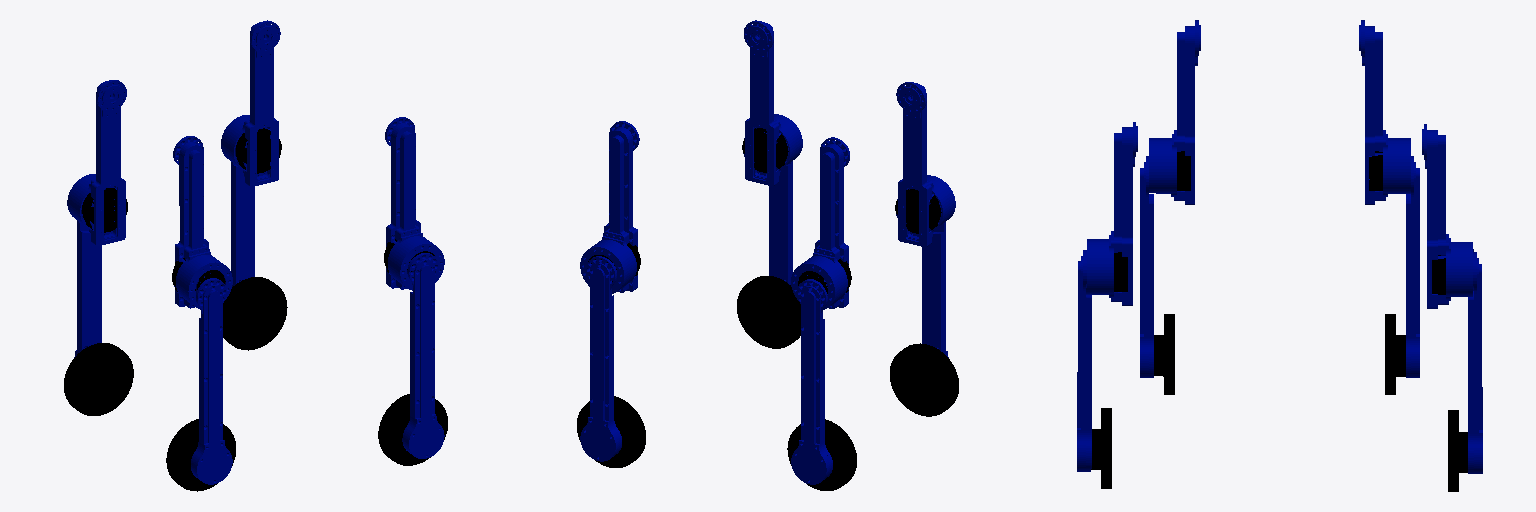
The robot description file, URDF, robot "monster":
<?xml version="1.0"?>
<robot name="monster">

    <material name="silver">
        <color rgba="0.700 0.700 0.700 1.000"/>
    </material>

    <material name="white">
        <color rgba="0.9 0.9 0.9 1"/>
    </material>

    <material name="black">
        <color rgba="0 0 0 1"/>
    </material>

    <material name="blue">
        <color rgba="0.1490 0.7019 0.9420 1"/>
    </material>

<!--  back base  -->
    <link name="base">
        <visual>
            <origin xyz="0.165 -0 -0" rpy="0 0 3.14"/>
            <geometry>
                <mesh filename="meshes/WeMO_Body.dae" scale="0.001 0.001 0.001"/>
            </geometry>
        </visual>
        <collision>
            <origin xyz="0.05 0 -0.024" rpy="0 0 0"/>
            <geometry>
                <box size="0.401 0.27 0.132"/>
<!--                <box size="0.541 0.27 0.15"/>-->
            </geometry>
        </collision>
        <inertial>
            <mass value="16.0"/>
            <origin xyz="0.0 0 -0.0"/>
            <inertia ixx="0.1845" iyy="0.4211" izz="0.5592"
                     ixy="0.0" ixz="0.0" iyz="0.0"/>
        </inertial>
    </link>
<!--  front base  -->
    <link name="base_second">
        <collision>
            <origin xyz="0.05 0 -0.024" rpy="0 0 0"/>
            <geometry>
                 <box size="0.152 0.515 0.132"/>
<!--                <box size="0.292 0.515 0.15"/>-->
            </geometry>
        </collision>
        <inertial>
            <mass value="1.0"/>
            <origin xyz="0 0 0"/>
            <inertia ixx="0.001" iyy="0.001" izz="0.001" ixy="0" ixz="0" iyz="0"/>
        </inertial>
    </link>

    <joint name="base" type="fixed">
        <parent link="base"/>
        <child link="base_second"/>
            <origin xyz="0.2765 0 0" rpy="0 0 0"/>
<!--        <origin xyz="0.4165 0 0" rpy="0 0 0"/>-->
    </joint>

    <!--    FL     -->
    <link name="hip_roll_motor_FL">
        <visual>
            <origin xyz="0.07 0.02 0.01" rpy="0 1.57 0"/>
            <geometry>
                <mesh filename="meshes/WeMO_Leg_pelvis.dae" scale="0.001 0.001 0.001"/>
            </geometry>
        </visual>
        <inertial>
            <mass value="0.8"/>
            <origin xyz="0.0 0.0 0.0"/>
            <inertia ixx="0.00033" iyy="0.00113" izz="0.00113"
                     ixy="0.0" ixz="0.0" iyz="0.0"/>
        </inertial>
    </link>

    <link name="first_link_FL">
        <visual>
            <origin xyz ="-0.0 0.025 -0.225" rpy="1.57 0 3.14"/>
            <geometry>
                <mesh filename="meshes/WeMO_Leg_thigh.dae" scale="0.001 0.001 0.001"/>
            </geometry>
        </visual>
        <collision>
            <origin xyz="0 0.01 -0.13" rpy="0 0 0"/>
            <geometry>
                <cylinder radius="0.019" length="0.26"/>
            </geometry>
        </collision>
        <inertial>
            <mass value="1.2"/>
            <origin xyz="0 0.0 0.0"/>
            <inertia ixx="0.00687" iyy="0.00687" izz="0.00022"
                     ixy="0.0" ixz="0.0" iyz="0.0"/>
        </inertial>
    </link>

    <link name="second_link_FL">
        <visual>
            <origin xyz="0.0 0.02 -0.265" rpy="1.57 0 3.14"/>
            <geometry>
                <mesh filename="meshes/WeMO_Leg_calf.dae" scale="0.001 0.001 0.001"/>
            </geometry>
        </visual>
        <collision>
            <origin xyz="0 0.035 -0.185" rpy="0 0 0"/>
            <geometry>
                <cylinder radius="0.019" length="0.37"/>
            </geometry>
        </collision>
        <inertial>
            <mass value="0.9"/>
            <origin xyz="0 0.0 -0.0"/>
            <inertia ixx="0.01035" iyy="0.01035" izz="0.00016"
                     ixy="0.0" ixz="0.0" iyz="0.0"/>
        </inertial>
    </link>

    <link name="wheel_FL">
        <visual>
            <origin xyz="0 0 0" rpy="1.57 0 0"/>
            <geometry>
                <cylinder radius="0.075" length="0.02"/>
            </geometry>
            <material name="black"/>
        </visual>
        <collision>
            <origin xyz="0 0 0" rpy="1.57 0 0"/>
            <geometry>
                <cylinder radius="0.075" length="0.05"/>
            </geometry>
        </collision>
        <inertial>
            <mass value="0.7"/>
            <origin xyz="0 0 0"/>
            <inertia ixx="0.00113" iyy="0.00197" izz="0.00113"
                     ixy="0.0" ixz="0.0" iyz="0.0"/>
        </inertial>
    </link>

    <!--    joint    -->
    <joint name="hip_roll_joint_FL" type="revolute">
        <parent link="base"/>
        <child link="hip_roll_motor_FL"/>
        <origin xyz="0.2765 0.196 0.0" rpy="0 0 0"/>
        <axis xyz="1 0 0"/>
        <limit lower="-3.1416" upper="3.1416" effort="120" velocity="20"/>
    </joint>

    <joint name="hip_pitch_joint_FL" type="revolute">
        <parent link="hip_roll_motor_FL"/>
        <child link="first_link_FL"/>
        <origin xyz="0.07 0.0893 0.005" rpy="0 0 0"/>
        <axis xyz="0 1 0"/>
        <limit lower="-3.1416" upper="3.1416" effort="120" velocity="20"/>
    </joint>

    <joint name="knee_pitch_joint_FL" type="revolute">
        <parent link="first_link_FL"/>
        <child link="second_link_FL"/>
        <origin xyz="0.0 0.05 -0.26" rpy="0 0 0"/>
        <axis xyz="0 1 0"/>
        <limit lower="-3.1416" upper="3.1416" effort="140" velocity="20"/>
    </joint>

    <joint name="wheel_joint_FL" type="continuous">
        <parent link="second_link_FL"/>
        <child link="wheel_FL"/>
        <origin xyz="0.0 -0.015 -0.37" rpy="0 0 0"/>
        <axis xyz="0 1 0"/>
        <limit effort="60" velocity="80"/>
        <dynamics damping="0.1" friction="0.1"/>
    </joint>


    <!--    FR     -->
    <link name="hip_roll_motor_FR">
        <visual>
            <origin xyz="0.07 -0.02 0.01" rpy="0 -1.57 3.14"/>
            <geometry>
                <mesh filename="meshes/WeMO_Leg_pelvis.dae" scale="0.001 0.001 0.001"/>
            </geometry>
        </visual>
        <inertial>
            <mass value="0.8"/>
            <origin xyz="0.0 0.0 0.0"/>
            <inertia ixx="0.00033" iyy="0.00113" izz="0.00113"
                     ixy="0.0" ixz="0.0" iyz="0.0"/>
        </inertial>
    </link>

    <link name="first_link_FR">
        <visual>
            <origin xyz ="-0.0 -0.025 -0.225" rpy="1.57 0 0"/>
            <geometry>
                <mesh filename="meshes/WeMO_Leg_thigh.dae" scale="0.001 0.001 0.001"/>
            </geometry>
        </visual>
        <collision>
            <origin xyz="0 -0.01 -0.13" rpy="0 0 0"/>
            <geometry>
                <cylinder radius="0.019" length="0.26"/>
            </geometry>
        </collision>
        <inertial>
            <mass value="1.2"/>
            <origin xyz="0 0.00 -0.0"/>
            <inertia ixx="0.00687" iyy="0.00687" izz="0.00022"
                     ixy="0.0" ixz="0.0" iyz="0.0"/>
        </inertial>
    </link>

    <link name="second_link_FR">
        <visual>
            <origin xyz="0.0 -0.02 -0.265" rpy="1.57 0 0"/>
            <geometry>
                <mesh filename="meshes/WeMO_Leg_calf.dae" scale="0.001 0.001 0.001"/>
            </geometry>
        </visual>
        <collision>
            <origin xyz="0 -0.035 -0.185" rpy="0 0 0"/>
            <geometry>
                <cylinder radius="0.019" length="0.37"/>
            </geometry>
        </collision>
        <inertial>
            <mass value="0.9"/>
            <origin xyz="0 0.0 -0.0"/>
            <inertia ixx="0.01035" iyy="0.01035" izz="0.00016"
                     ixy="0.0" ixz="0.0" iyz="0.0"/>
        </inertial>
    </link>

    <link name="wheel_FR">
        <visual>
            <origin xyz="0 0 0" rpy="1.57 0 0"/>
            <geometry>
                <cylinder radius="0.075" length="0.02"/>
            </geometry>
            <material name="black"/>
        </visual>
        <collision>
            <origin xyz="0 0 0" rpy="1.57 0 0"/>
            <geometry>
                <cylinder radius="0.075" length="0.05"/>
            </geometry>
        </collision>
        <inertial>
            <mass value="0.7"/>
            <origin xyz="0 0 0"/>
            <inertia ixx="0.00113" iyy="0.00197" izz="0.00113"
                     ixy="0.0" ixz="0.0" iyz="0.0"/>
        </inertial>
    </link>

    <!--    joint    -->
    <joint name="hip_roll_joint_FR" type="revolute">
        <parent link="base"/>
        <child link="hip_roll_motor_FR"/>
        <origin xyz="0.2765 -0.196 0.00" rpy="0 0 0"/>
        <axis xyz="1 0 0"/>
        <limit lower="-3.1416" upper="3.1416" effort="120" velocity="20"/>
    </joint>

    <joint name="hip_pitch_joint_FR" type="revolute">
        <parent link="hip_roll_motor_FR"/>
        <child link="first_link_FR"/>
        <origin xyz="0.07 -0.0893 0.01" rpy="0 0 0"/>
        <axis xyz="0 1 0"/>
        <limit lower="-3.1416" upper="3.1416" effort="120" velocity="20"/>
    </joint>

    <joint name="knee_pitch_joint_FR" type="revolute">
        <parent link="first_link_FR"/>
        <child link="second_link_FR"/>
        <origin xyz="0.0 -0.05 -0.26" rpy="0 0 0"/>
        <axis xyz="0 1 0"/>
        <limit lower="-3.1416" upper="3.1416" effort="140" velocity="20"/>
    </joint>

    <joint name="wheel_joint_FR" type="continuous">
        <parent link="second_link_FR"/>
        <child link="wheel_FR"/>
        <origin xyz="0.0 0.015 -0.37" rpy="0 0 0"/>
        <axis xyz="0 1 0"/>
        <limit effort="60" velocity="80"/>
        <dynamics damping="0.1" friction="0.1"/>
    </joint>

    <!--    HL     -->
    <link name="hip_roll_motor_HL">
        <visual>
            <origin xyz="-0.04 0.02 0.01" rpy="0 -1.57 0"/>
            <geometry>
                <mesh filename="meshes/WeMO_Leg_pelvis.dae" scale="0.001 0.001 0.001"/>
            </geometry>
        </visual>
        <inertial>
            <mass value="0.8"/>
            <origin xyz="0.0 0.0 0.0"/>
            <inertia ixx="0.00033" iyy="0.00113" izz="0.00113"
                     ixy="0.0" ixz="0.0" iyz="0.0"/>
        </inertial>
    </link>

    <link name="first_link_HL">
        <visual>
            <origin xyz ="0. 0.025 -0.21" rpy="1.57 0 3.14"/>
            <geometry>
                <mesh filename="meshes/WeMO_Leg_thigh.dae" scale="0.001 0.001 0.001"/>
            </geometry>
        </visual>
        <collision>
            <origin xyz="0 0.01 -0.13" rpy="0 0 0"/>
            <geometry>
                <cylinder radius="0.019" length="0.26"/>
            </geometry>
        </collision>
        <inertial>
            <mass value="1.2"/>
            <origin xyz="0 0.0 -0.0"/>
            <inertia ixx="0.00687" iyy="0.00687" izz="0.00022"
                     ixy="0.0" ixz="0.0" iyz="0.0"/>
        </inertial>
    </link>

    <link name="second_link_HL">
        <visual>
            <origin xyz="0.0 0.02 -0.265" rpy="1.57 0 3.14"/>
            <geometry>
                <mesh filename="meshes/WeMO_Leg_calf.dae" scale="0.001 0.001 0.001"/>
            </geometry>
        </visual>
        <collision>
            <origin xyz="0 0.035 -0.185" rpy="0 0 0"/>
            <geometry>
                <cylinder radius="0.019" length="0.37"/>
            </geometry>
        </collision>
        <inertial>
            <mass value="0.9"/>
            <origin xyz="0 0.0 -0.0"/>
            <inertia ixx="0.01035" iyy="0.01035" izz="0.00016"
                     ixy="0.0" ixz="0.0" iyz="0.0"/>
        </inertial>
    </link>

    <link name="wheel_HL">
        <visual>
            <origin xyz="0 0 0" rpy="1.57 0 0"/>
            <geometry>
                <cylinder radius="0.075" length="0.02"/>
            </geometry>
            <material name="black"/>
        </visual>
        <collision>
            <origin xyz="0 0 0" rpy="1.57 0 0"/>
            <geometry>
                <cylinder radius="0.075" length="0.05"/>
            </geometry>
        </collision>
        <inertial>
            <mass value="0.7"/>
            <origin xyz="0 0 0"/>
            <inertia ixx="0.00113" iyy="0.00197" izz="0.00113"
                     ixy="0.0" ixz="0.0" iyz="0.0"/>
        </inertial>
    </link>

    <!--    joint    -->
    <joint name="hip_roll_joint_HL" type="revolute">
        <parent link="base"/>
        <child link="hip_roll_motor_HL"/>
        <origin xyz="-0.04275 0.08 0.0" rpy="0 0 0"/>
        <axis xyz="1 0 0"/>
        <limit lower="-3.1416" upper="3.1416" effort="120" velocity="20"/>
    </joint>

    <joint name="hip_pitch_joint_HL" type="revolute">
        <parent link="hip_roll_motor_HL"/>
        <child link="first_link_HL"/>
        <origin xyz="-0.031 0.0893 0.005" rpy="0 0 0"/>
        <axis xyz="0 1 0"/>
        <limit lower="-3.1416" upper="3.1416" effort="120" velocity="20"/>
    </joint>

    <joint name="knee_pitch_joint_HL" type="revolute">
        <parent link="first_link_HL"/>
        <child link="second_link_HL"/>
        <origin xyz="0.0 0.05 -0.26" rpy="0 0 0"/>
        <axis xyz="0 1 0"/>
        <limit lower="-3.1416" upper="3.1416" effort="140" velocity="20"/>
    </joint>

    <joint name="wheel_joint_HL" type="continuous">
        <parent link="second_link_HL"/>
        <child link="wheel_HL"/>
        <origin xyz="0.0 -0.015 -0.37" rpy="0 0 0"/>
        <axis xyz="0 1 0"/>
        <limit effort="60" velocity="80"/>
        <dynamics damping="0.1" friction="0.1"/>
    </joint>

    <!--    HR     -->

    <link name="hip_roll_motor_HR">
        <visual>
            <origin xyz="-0.04 -0.02 0.01" rpy="0 1.57 -3.14"/>
            <geometry>
                <mesh filename="meshes/WeMO_Leg_pelvis.dae" scale="0.001 0.001 0.001"/>
            </geometry>
        </visual>
        <inertial>
            <mass value="0.8"/>
            <origin xyz="0.0 0.0 0.0"/>
            <inertia ixx="0.00033" iyy="0.00113" izz="0.00113"
                     ixy="0.0" ixz="0.0" iyz="0.0"/>
        </inertial>
    </link>

    <link name="first_link_HR">
        <visual>
            <origin xyz ="0. -0.025 -0.21" rpy="1.57 0 0"/>
            <geometry>
                <mesh filename="meshes/WeMO_Leg_thigh.dae" scale="0.001 0.001 0.001"/>
            </geometry>
        </visual>
        <collision>
            <origin xyz="0 -0.01 -0.13" rpy="0 0 0"/>
            <geometry>
                <cylinder radius="0.019" length="0.26"/>
            </geometry>
        </collision>
        <inertial>
            <mass value="1.2"/>
            <origin xyz="0 0.0 -0.0"/>
            <inertia ixx="0.00687" iyy="0.00687" izz="0.00022"
                     ixy="0.0" ixz="0.0" iyz="0.0"/>
        </inertial>
    </link>

    <link name="second_link_HR">
        <visual>
            <origin xyz="0.0 -0.02 -0.265" rpy="1.57 0 0"/>
            <geometry>
                <mesh filename="meshes/WeMO_Leg_calf.dae" scale="0.001 0.001 0.001"/>
            </geometry>
        </visual>
        <collision>
            <origin xyz="0 -0.035 -0.185" rpy="0 0 0"/>
            <geometry>
                <cylinder radius="0.019" length="0.37"/>
            </geometry>
        </collision>
        <inertial>
            <mass value="0.9"/>
            <origin xyz="0 0.0 -0.0"/>
            <inertia ixx="0.01035" iyy="0.01035" izz="0.00016"
                     ixy="0.0" ixz="0.0" iyz="0.0"/>
        </inertial>
    </link>

    <link name="wheel_HR">
        <visual>
            <origin xyz="0 0 0" rpy="1.57 0 0"/>
            <geometry>
                <cylinder radius="0.075" length="0.02"/>
            </geometry>
            <material name="black"/>
        </visual>
        <collision>
            <origin xyz="0 0 0" rpy="1.57 0 0"/>
            <geometry>
                <cylinder radius="0.075" length="0.05"/>
            </geometry>
        </collision>
        <inertial>
            <mass value="0.7"/>
            <origin xyz="0 0 0"/>
            <inertia ixx="0.00113" iyy="0.00197" izz="0.00113"
                     ixy="0.0" ixz="0.0" iyz="0.0"/>
        </inertial>
    </link>

    <!--    joint    -->
    <joint name="hip_roll_joint_HR" type="revolute">
        <parent link="base"/>
        <child link="hip_roll_motor_HR"/>
        <origin xyz="-0.04275 -0.08 0.0" rpy="0 0 0"/>
        <axis xyz="1 0 0"/>
        <limit lower="-3.1416" upper="3.1416" effort="120" velocity="20"/>
    </joint>

    <joint name="hip_pitch_joint_HR" type="revolute">
        <parent link="hip_roll_motor_HR"/>
        <child link="first_link_HR"/>
        <origin xyz="-0.031 -0.0893 0.005" rpy="0 0 0"/>
        <axis xyz="0 1 0"/>
        <limit lower="-3.1416" upper="3.1416" effort="120" velocity="20"/>
    </joint>

    <joint name="knee_pitch_joint_HR" type="revolute">
        <parent link="first_link_HR"/>
        <child link="second_link_HR"/>
        <origin xyz="0.0 -0.05 -0.26" rpy="0 0 0"/>
        <axis xyz="0 1 0"/>
        <limit lower="-3.1416" upper="3.1416" effort="140" velocity="20"/>
    </joint>

    <joint name="wheel_joint_HR" type="continuous">
        <parent link="second_link_HR"/>
        <child link="wheel_HR"/>
        <origin xyz="0.0 0.015 -0.37" rpy="0 0 0"/>
        <axis xyz="0 1 0"/>
        <limit effort="60" velocity="80"/>
        <dynamics damping="0.1" friction="0.1"/>
    </joint>


</robot>

--- Facts derived from the render (not from the file) ---
Views: 3 orthographic renders of the robot side by side, from view 1: azimuth 30°, elevation 25°; view 2: azimuth 150°, elevation 25°; view 3: azimuth 270°, elevation 25°.
Robot: monster — 18 links, 17 joints (12 revolute, 4 continuous, 1 fixed); root link base; default pose: every joint at zero.
Visible links, largest first — view 1: first_link_HL, first_link_FL, second_link_FR, second_link_HR, first_link_HR, first_link_FR, wheel_HL, wheel_FL, second_link_HL, second_link_FL, wheel_HR, wheel_FR; view 2: first_link_FR, first_link_HR, second_link_HL, second_link_FL, first_link_HL, first_link_FL, wheel_HR, wheel_FR, second_link_HR, second_link_FR, wheel_FL, wheel_HL; view 3: first_link_FR, first_link_FL, first_link_HL, first_link_HR, second_link_FR, second_link_FL, second_link_HL, second_link_HR, wheel_FL, wheel_FR, wheel_HL, wheel_HR.
Link boxes in pixels (x1,y1,x2,y2): first_link_HL: (67, 80, 127, 245); first_link_FL: (221, 20, 281, 186); second_link_FR: (399, 253, 444, 458); second_link_HR: (187, 278, 232, 484); first_link_HR: (172, 136, 232, 308); first_link_FR: (384, 117, 444, 290); wheel_HL: (64, 343, 133, 415); wheel_FL: (223, 277, 287, 350); second_link_HL: (74, 220, 101, 357); second_link_FL: (231, 162, 254, 286); wheel_HR: (166, 419, 235, 491); wheel_FR: (378, 394, 447, 465); first_link_FR: (742, 20, 802, 186); first_link_HR: (895, 82, 955, 247); second_link_HL: (791, 279, 835, 484); second_link_FL: (580, 256, 624, 461); first_link_HL: (791, 137, 851, 309); first_link_FL: (580, 121, 640, 293); wheel_HR: (890, 343, 958, 416); wheel_FR: (737, 276, 800, 348); second_link_HR: (922, 222, 948, 357); second_link_FR: (769, 161, 792, 284); wheel_FL: (577, 396, 645, 467); wheel_HL: (787, 419, 856, 490); first_link_FR: (1086, 122, 1137, 305); first_link_FL: (1422, 124, 1473, 308); first_link_HL: (1359, 20, 1410, 204); first_link_HR: (1149, 20, 1200, 204); second_link_FR: (1077, 250, 1100, 471); second_link_FL: (1459, 252, 1482, 473); second_link_HL: (1396, 156, 1419, 377); second_link_HR: (1140, 156, 1163, 377); wheel_FL: (1448, 410, 1458, 491); wheel_FR: (1101, 408, 1111, 488); wheel_HL: (1385, 314, 1395, 394); wheel_HR: (1164, 314, 1174, 394).
Size in the robot's own frame: 0.5703 by 0.7484 by 0.7529 metres.
8 mesh visuals loaded from 4 distinct referenced files (2 Collada DAE); not drawn: 5 (reference not matched to a file when rendering).
